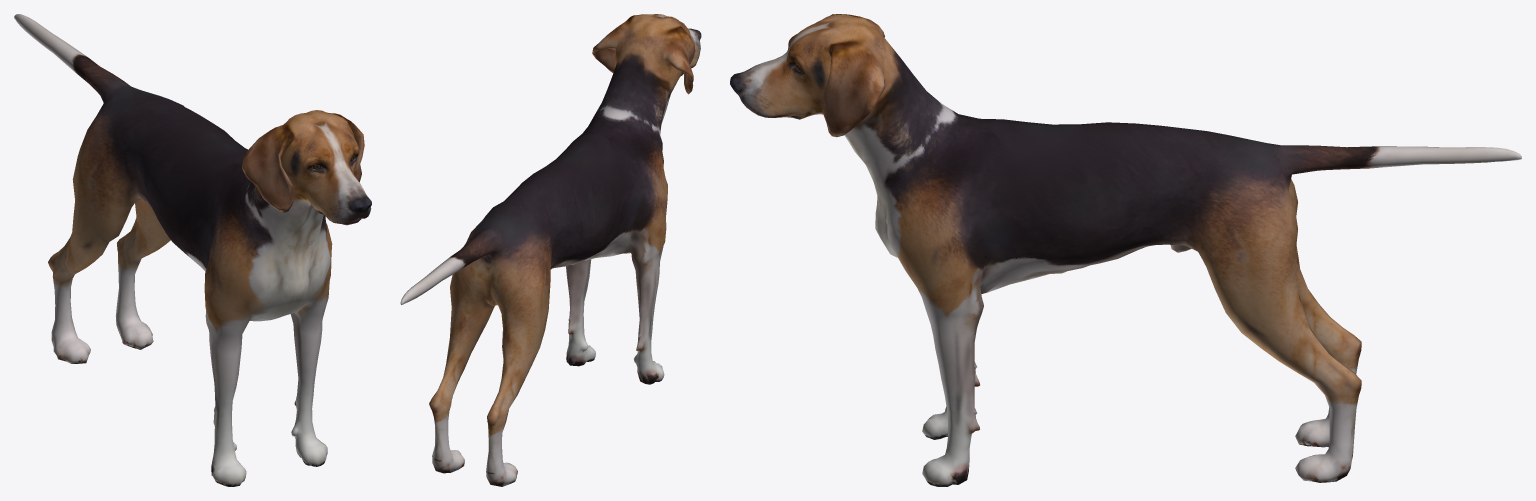
File: dog.glb
3 views of the same model, side by side, from view 1: azimuth 30°, elevation 25°; view 2: azimuth 150°, elevation 25°; view 3: azimuth 270°, elevation 25° (orthographic). The views are drawn at different scales.
Visible parts, largest first — view 1: sm_1_0_0; view 2: sm_1_0_0; view 3: sm_1_0_0.
Part boxes in pixels (x1,y1,x2,y2): sm_1_0_0: [14, 14, 371, 486]; sm_1_0_0: [400, 14, 701, 486]; sm_1_0_0: [730, 14, 1521, 486].
Size of the model in its own units: 0.2554 by 0.7925 by 1.3.
3 materials, 3 textured.
